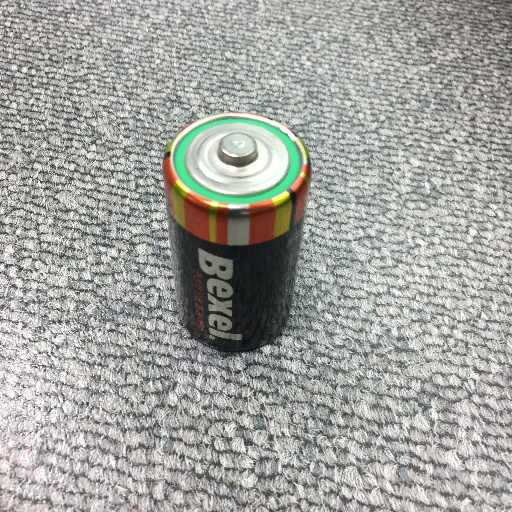Battery_0: (160, 101, 310, 356)
